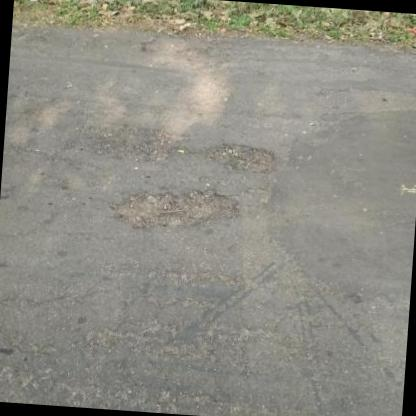pothole: (108, 179, 244, 236), (84, 120, 179, 166), (206, 138, 278, 176)
